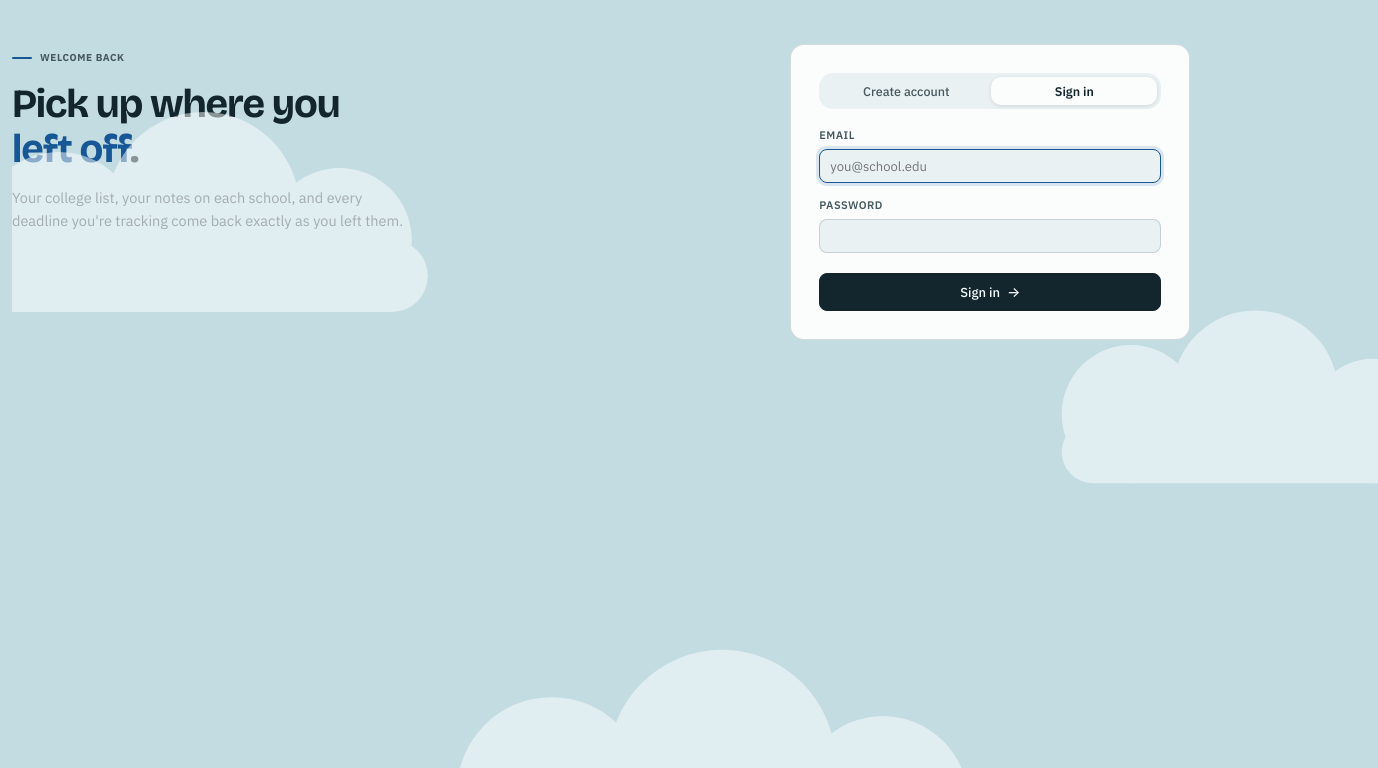
it: signing in when 2FA is on › swaps to the code step instead of signing in
The image size is (1378, 768).
Type "jordan@example.com" into the field labelled "Email" at (990, 166), box top-left (819, 149), bottom-right (1161, 183)
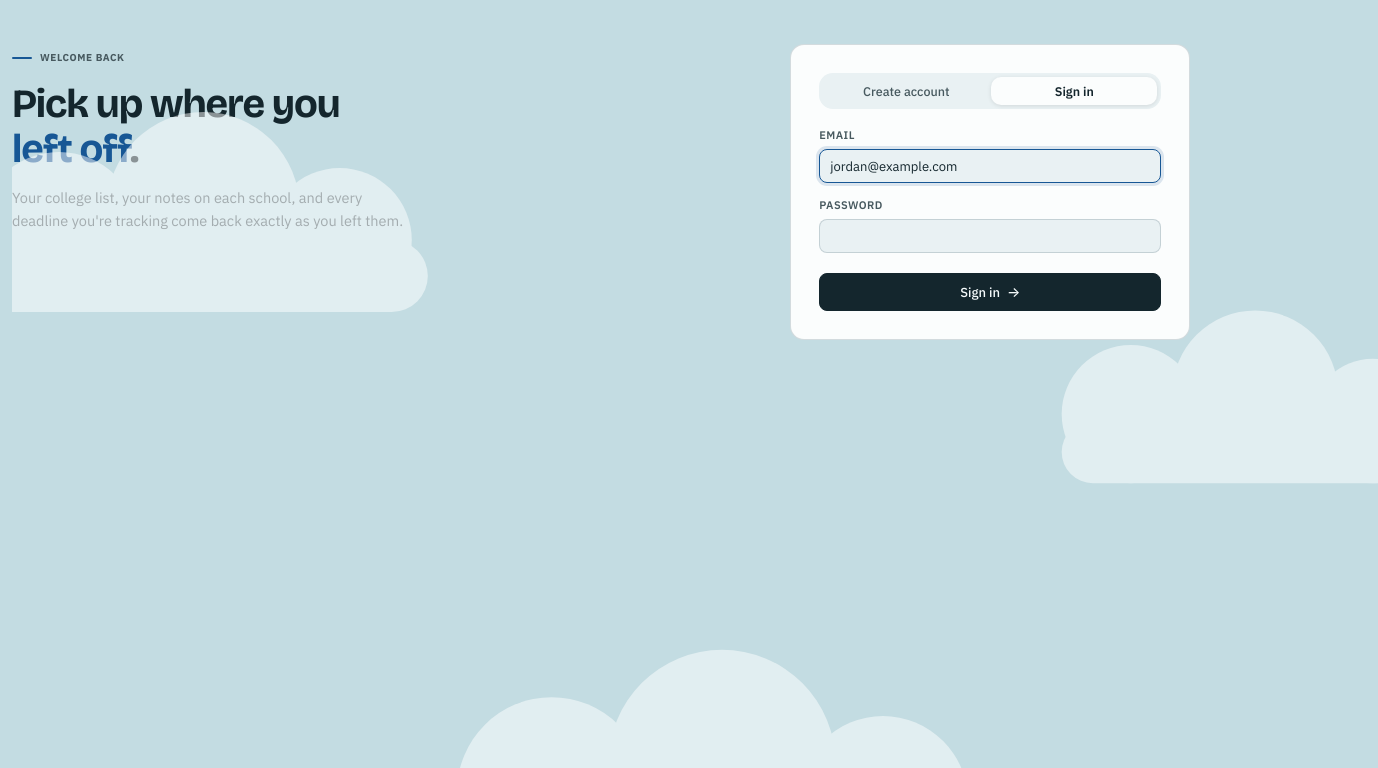
Type "correct horse battery" into the password field labelled "Password" at (990, 236), box top-left (819, 219), bottom-right (1161, 253)
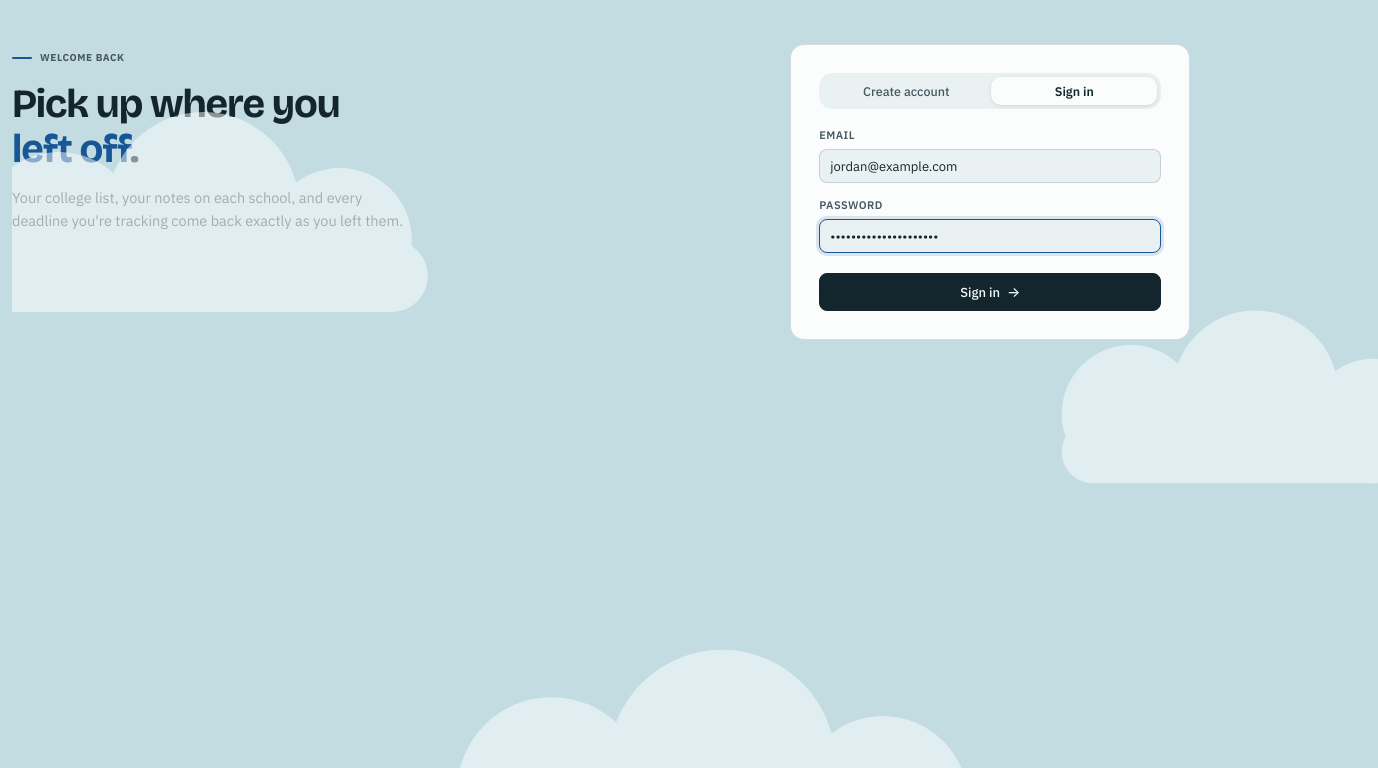
Click the button "Sign in →" at (990, 292), box top-left (819, 273), bottom-right (1161, 311)
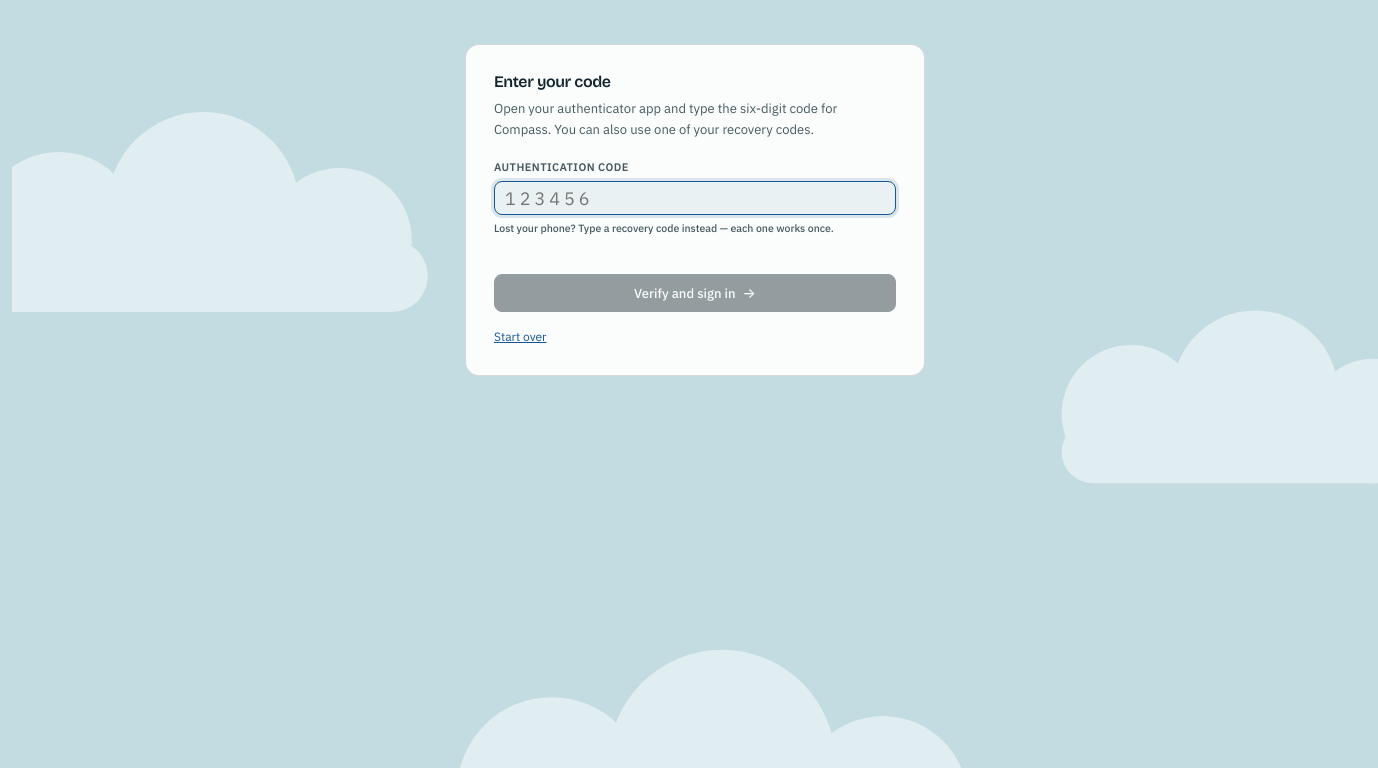
Expected: the field labelled "Authentication code" is shown, top-left (494, 181), bottom-right (896, 215)
